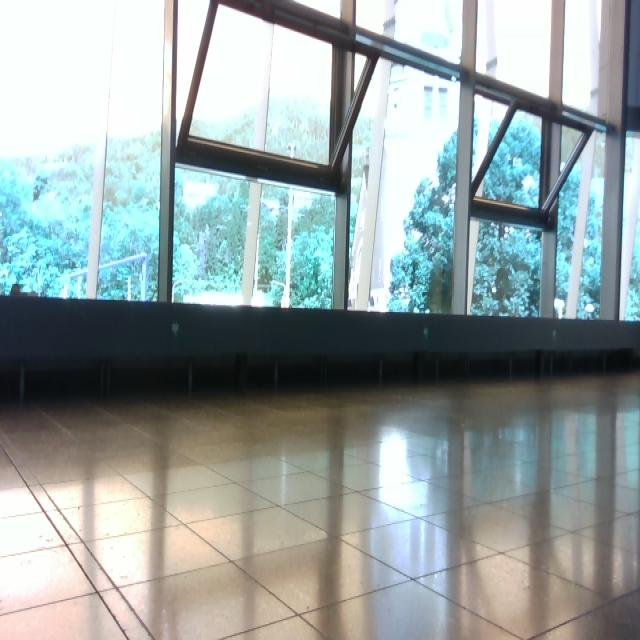light bulb: (182, 180, 218, 210), (554, 299, 565, 311), (585, 304, 595, 313)
tiled floor: (2, 373, 639, 638)
window: (1, 1, 640, 324)
